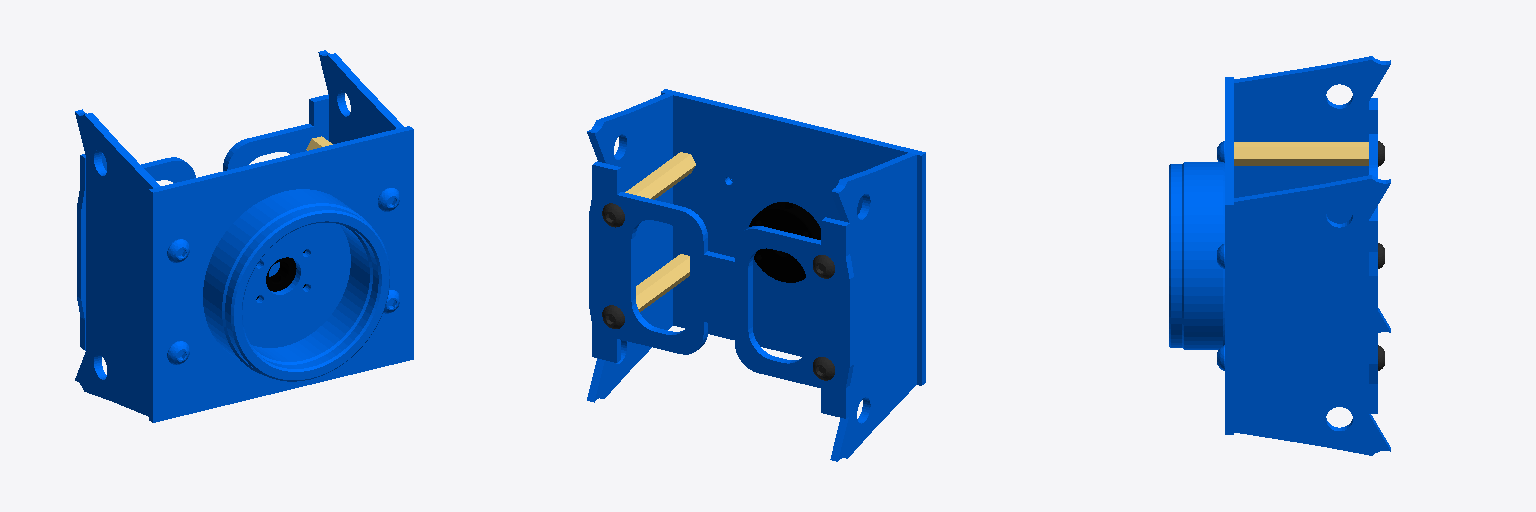
Rendered from gripper_frame_Mesh.obj.
3 views of the same model, side by side, from view 1: azimuth 30°, elevation 25°; view 2: azimuth 150°, elevation 25°; view 3: azimuth 270°, elevation 25° (orthographic).
Size of the model in its own units: 0.067 by 0.068 by 0.0495.